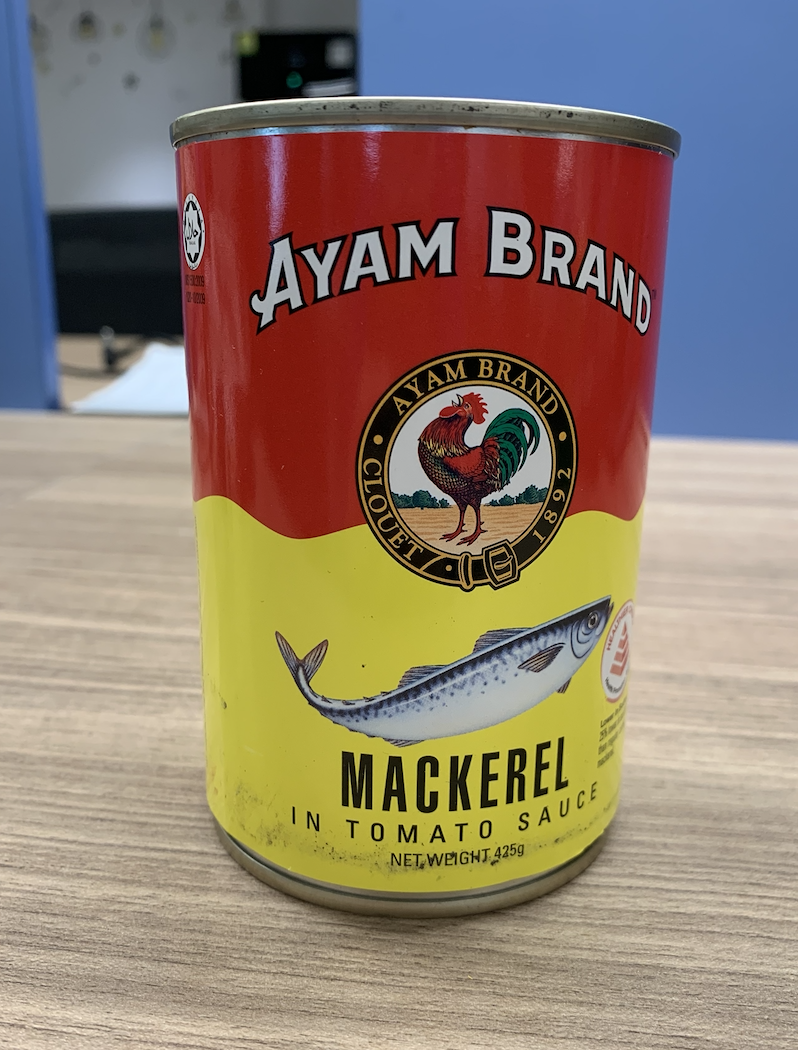sardines_450g: (193, 150, 630, 872)
